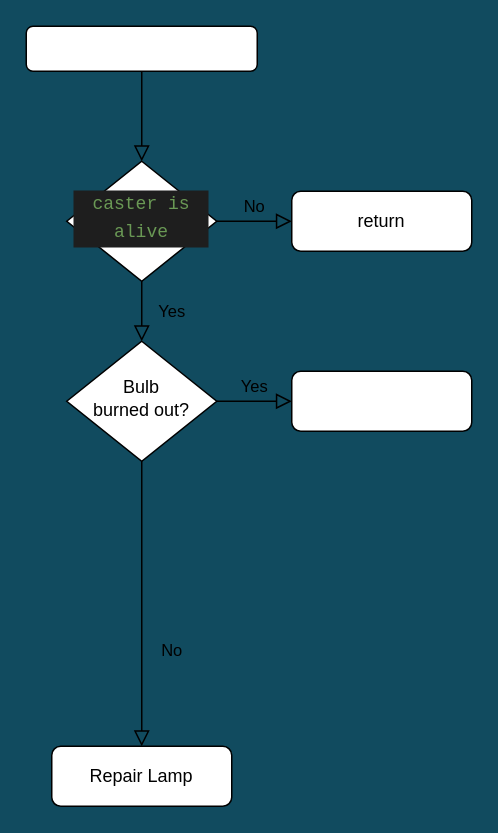
Some shapes in this 498 by 833 pixel diagram are drawn without their labels. Each missing label, with the centre of its shape:
Replace Bulb: (x=381, y=400)
tryAudoFight ( caster ): (x=141, y=48)
